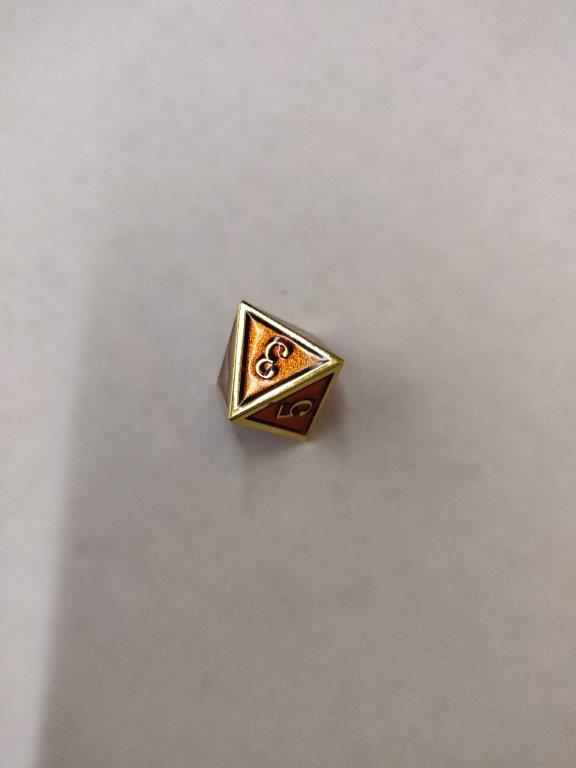d8-3: (213, 300, 345, 447)
